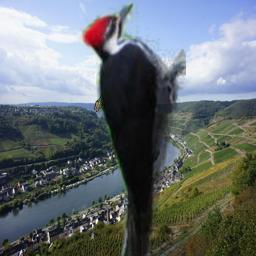Cuckoo: (94, 88, 118, 112)
Woodpecker: (78, 1, 186, 256)
